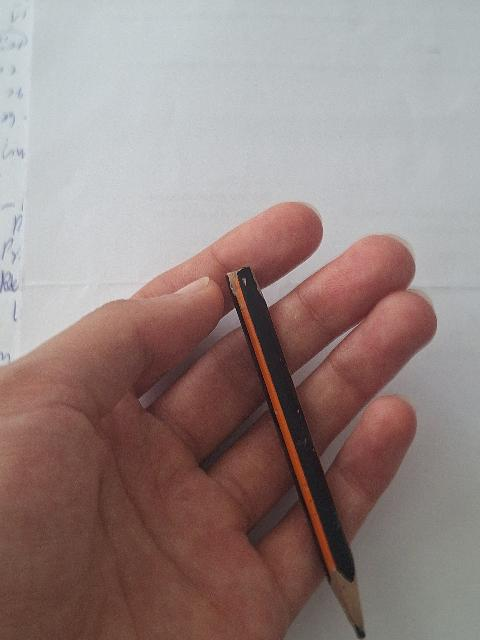writing_tool: (223, 264, 373, 640)
